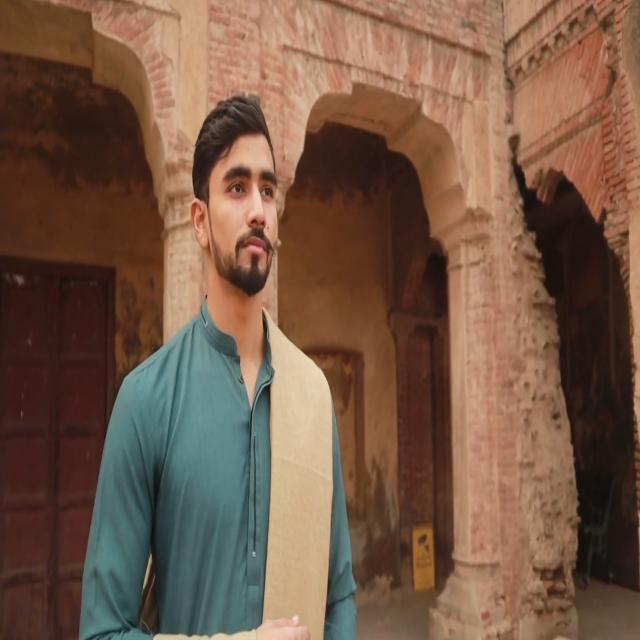dress: (77, 286, 361, 640)
